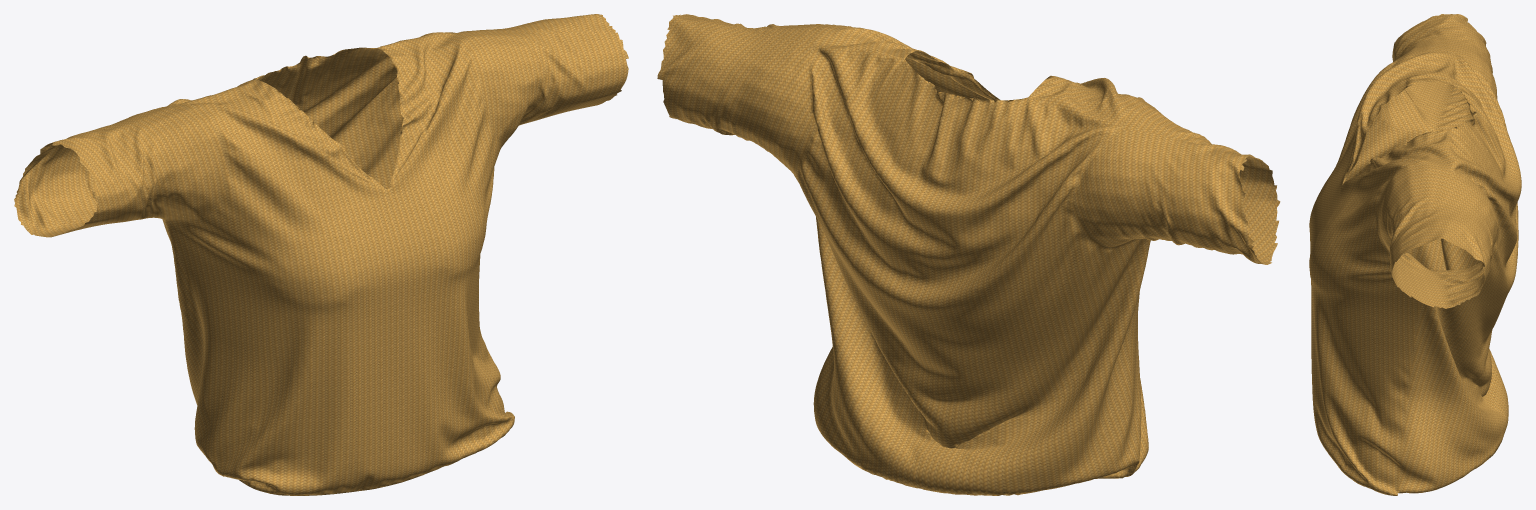
File: female_orange_tshirt_XL.glb
The picture shows the model from 3 angles, left to right: view 1: azimuth 30°, elevation 25°; view 2: azimuth 150°, elevation 25°; view 3: azimuth 270°, elevation 25°; orthographic projection. The views are drawn at different scales.
Visible parts, largest first — view 1: weld_chompa_varon_3b_Material719171_0; view 2: weld_chompa_varon_3b_Material719171_0; view 3: weld_chompa_varon_3b_Material719171_0.
Part boxes in pixels (<box>): weld_chompa_varon_3b_Material719171_0: <box>14,14,628,495</box>; weld_chompa_varon_3b_Material719171_0: <box>657,14,1280,495</box>; weld_chompa_varon_3b_Material719171_0: <box>1309,14,1521,495</box>.
Bounding box in the file's own units: 0.788 × 0.496 × 0.292.
Materials: 1 (1 with a texture image).
